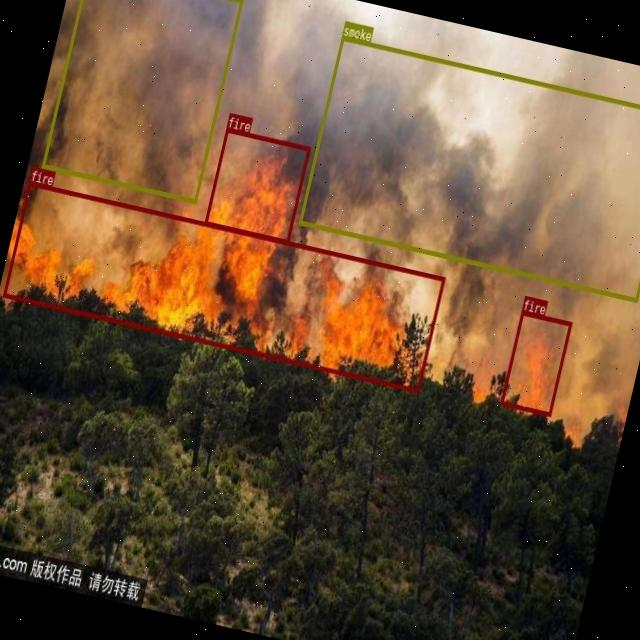fire: (2, 180, 445, 392), (204, 127, 310, 243), (499, 309, 572, 416)
smoke: (297, 35, 640, 300), (40, 0, 242, 201)
